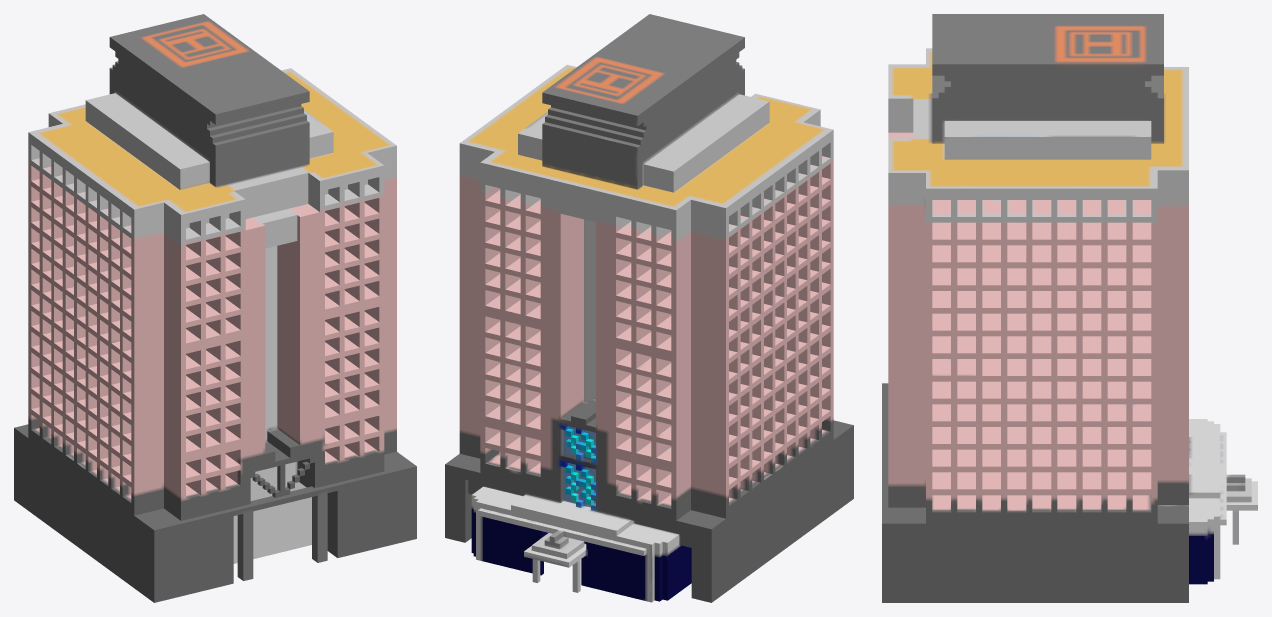
File: kagoshimakentyou.glb
3 views of the same model, side by side, from view 1: azimuth 30°, elevation 25°; view 2: azimuth 150°, elevation 25°; view 3: azimuth 270°, elevation 25° (orthographic). The views are drawn at different scales.
Parts seen in each view (by area): view 1: kagoshimakentyou; view 2: kagoshimakentyou; view 3: kagoshimakentyou.
Boxes of the visible parts, x1,y1,x2,y2 form: kagoshimakentyou: [14, 14, 416, 602]; kagoshimakentyou: [445, 14, 853, 602]; kagoshimakentyou: [882, 14, 1257, 602].
Size of the model in its own units: 1.06 by 1.74 by 1.2.
Materials: 1 (1 with a texture image).
